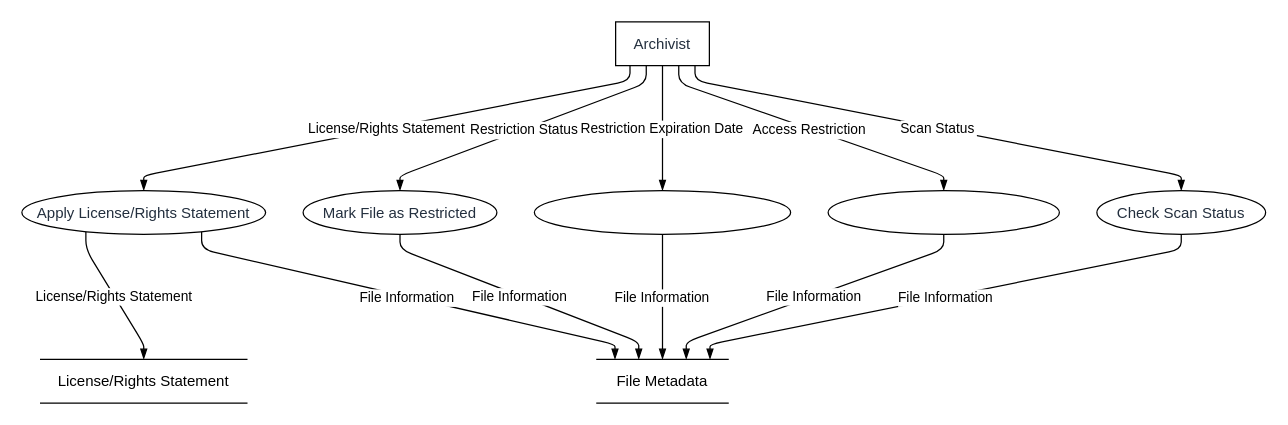
Image size: 1288x425. Some labels were removed from this diagram. The shapes that lost their labels are listed below. From the top down, each one's centre as x and y in pixels, then its label:
point (662, 211): Set Date for Restriction Removal
point (943, 211): Restrict Access by IP Address
